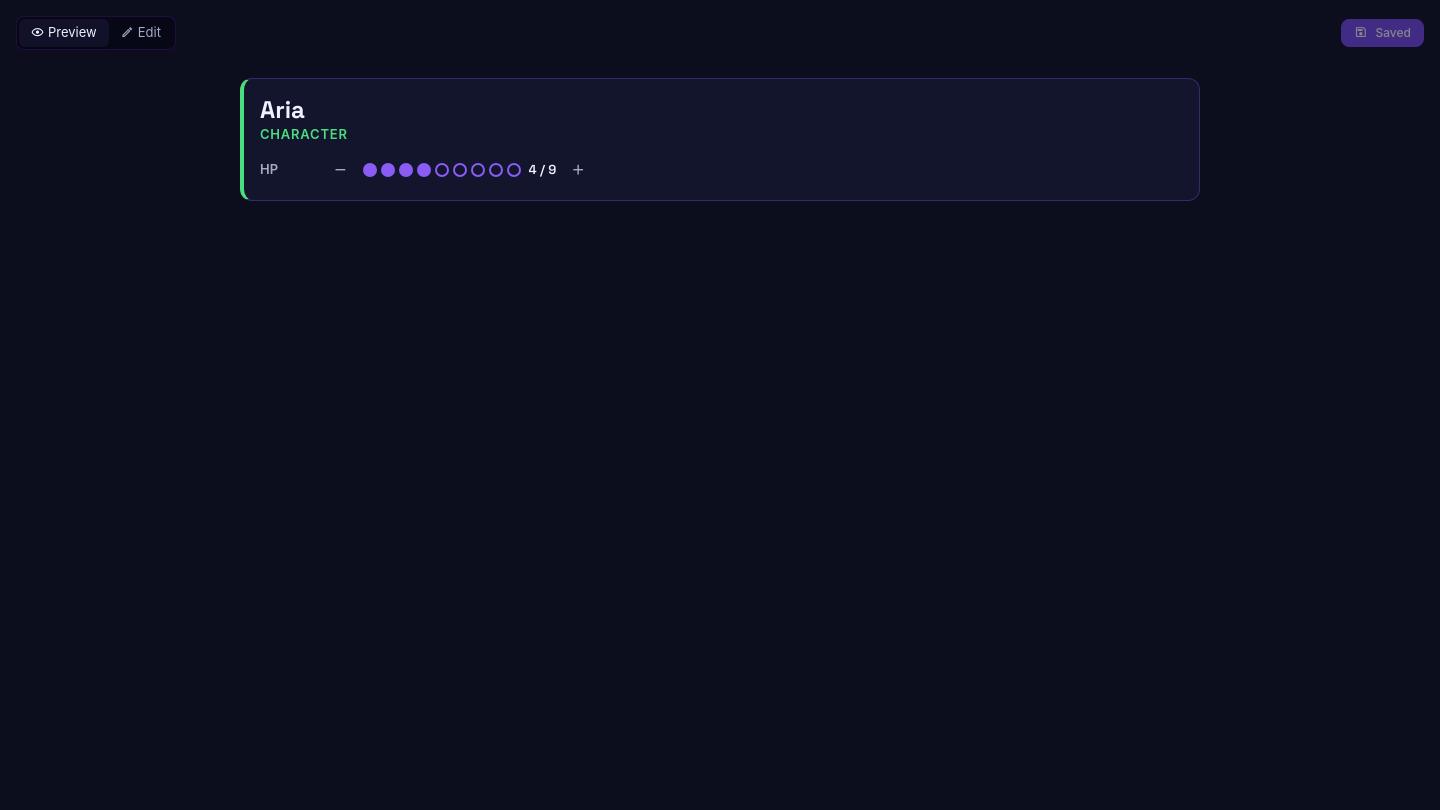
Test: CharacterEditor › opens on its sheet, with the character's own counters, and Edit shows the builder beside it
The image size is (1440, 810).
Expected: the text "4 / 9" is shown, [528,160,556,180]
Click the button "Edit" at [141, 33], box [109,19,173,46]
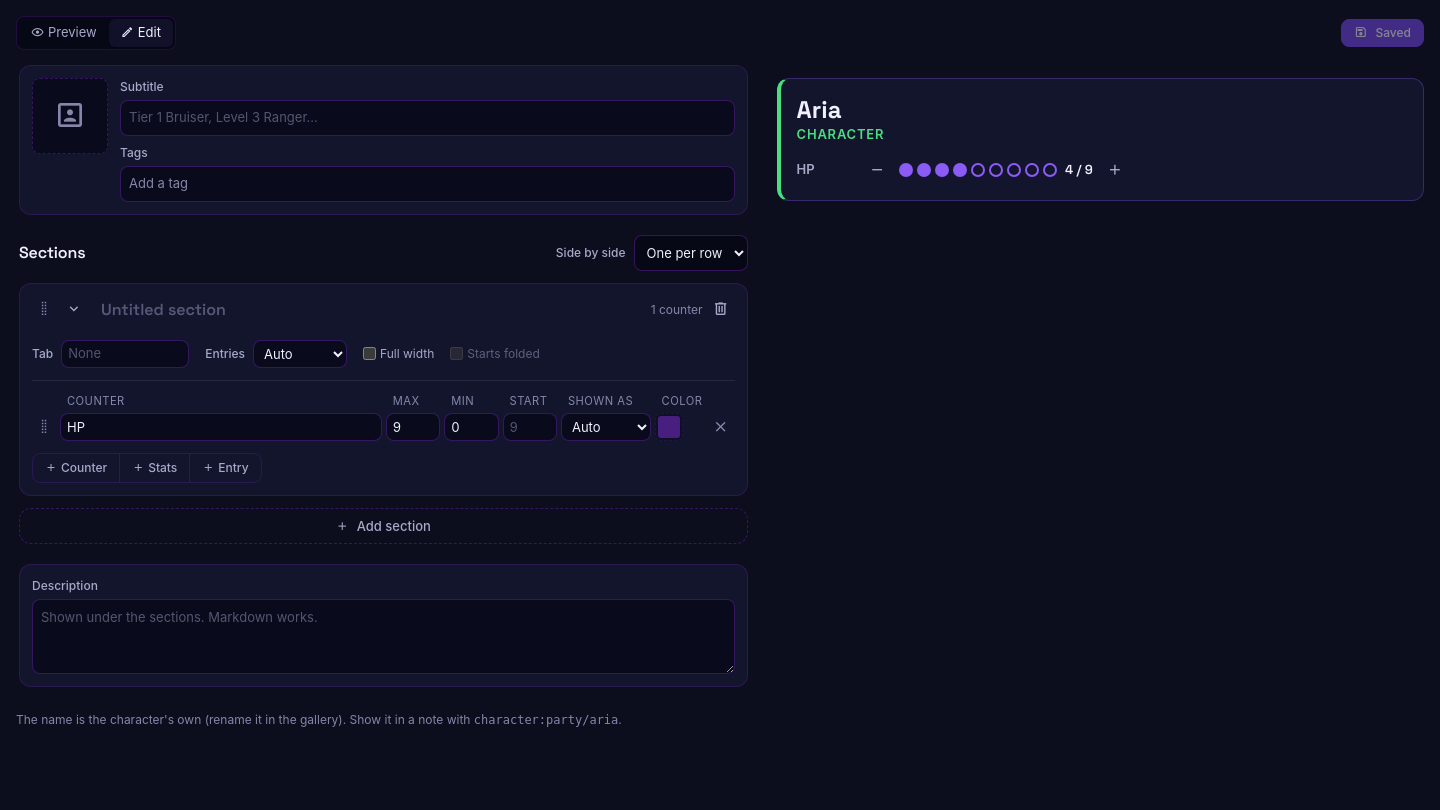
Expected: the text "4 / 9" is shown, [1065,160,1093,180]
Result: the field named "Counter name" holds "HP" at [60,413,382,441]
Result: the text "character:party/aria" is shown at [474,713,618,727]
